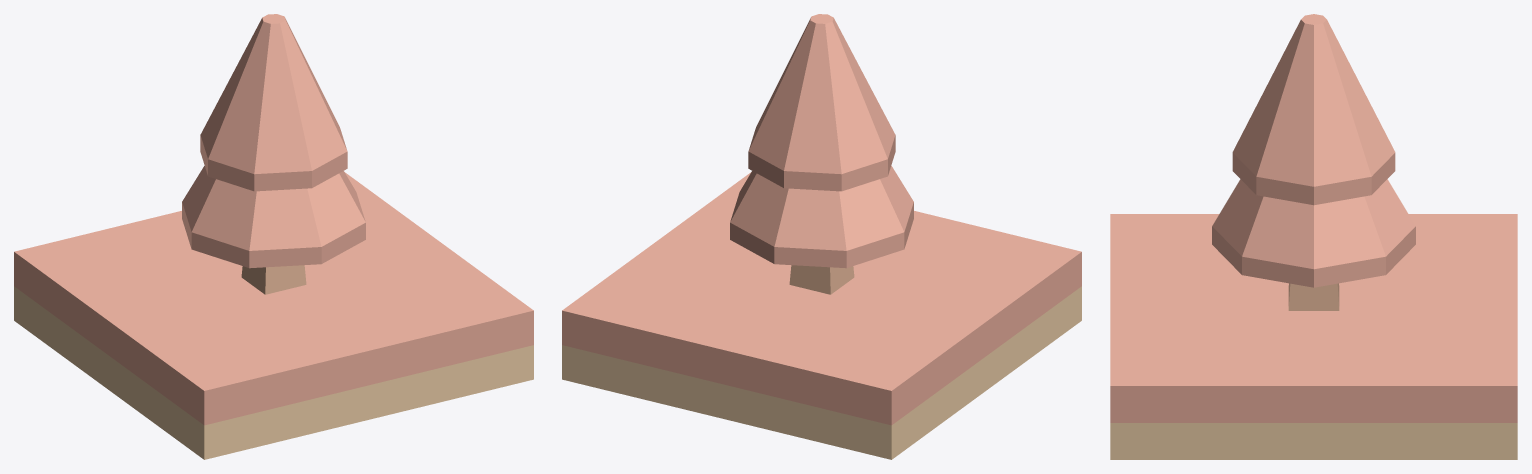
The model's file is level_select_fall.gltf.
3 renders of one model, left to right at view 1: azimuth 30°, elevation 25°; view 2: azimuth 150°, elevation 25°; view 3: azimuth 270°, elevation 25°, orthographic. The views are drawn at different scales.
Parts seen in each view (by area): view 1: tile_tree, tree; view 2: tile_tree, tree; view 3: tile_tree, tree.
Boxes of the visible parts, <box> form: tile_tree: <box>14,172,533,459</box>; tree: <box>182,14,365,294</box>; tile_tree: <box>562,172,1081,459</box>; tree: <box>730,14,913,294</box>; tile_tree: <box>1110,214,1517,459</box>; tree: <box>1212,14,1415,310</box>.
Size of the model in its own units: 1 by 0.96 by 1.
